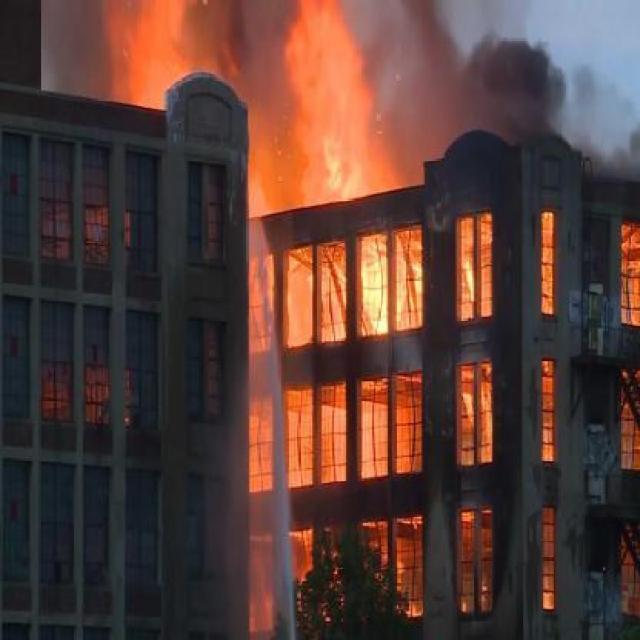Fire: (108, 0, 640, 636)
Smoke: (382, 0, 625, 135)
